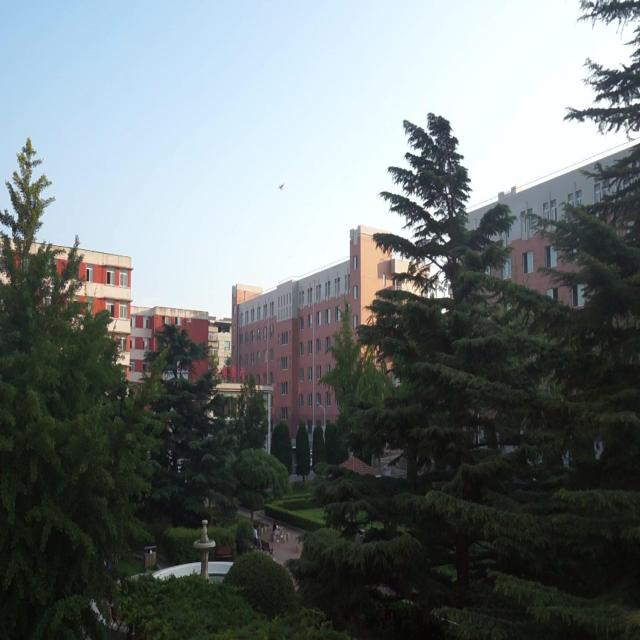drone: (276, 180, 286, 192)
